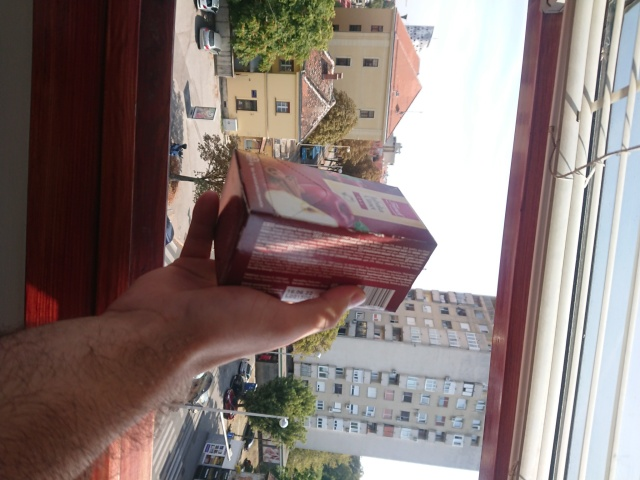Franck Apple Cinnamon Tea 60g: (211, 146, 439, 314)
